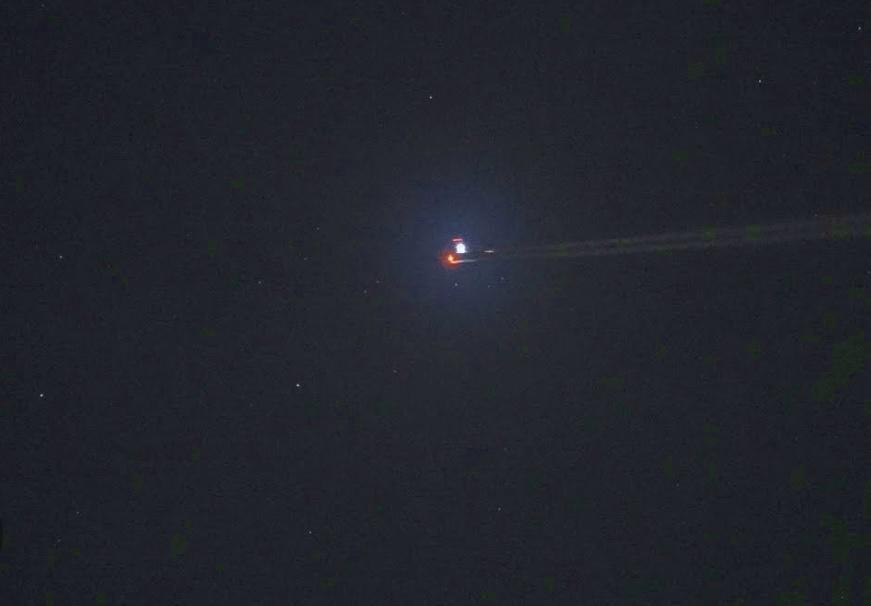Plane: (360, 209, 870, 278)
